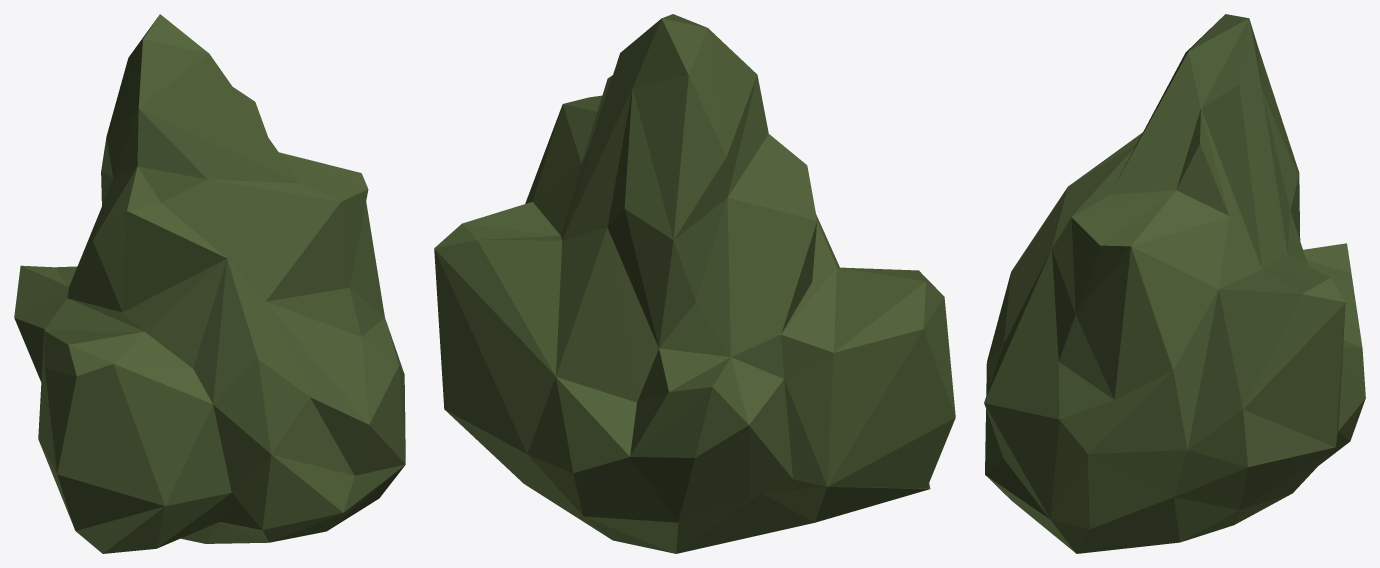
File: SM_Env_Bush_02.fbx
3 renders of one model, left to right at view 1: azimuth 30°, elevation 25°; view 2: azimuth 150°, elevation 25°; view 3: azimuth 270°, elevation 25°, orthographic. The views are drawn at different scales.
Parts seen in each view (by area): view 1: SM_Env_Bush_02; view 2: SM_Env_Bush_02; view 3: SM_Env_Bush_02.
Boxes of the visible parts, <box> form: SM_Env_Bush_02: <box>14,14,405,553</box>; SM_Env_Bush_02: <box>434,14,955,553</box>; SM_Env_Bush_02: <box>984,14,1365,553</box>.
Size of the model in its own units: 123 by 156 by 108.
